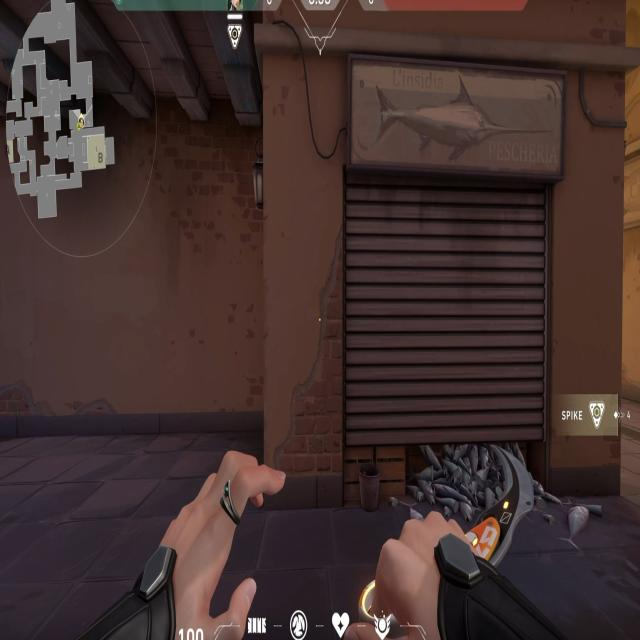B_Main_Corner: (258, 42, 576, 516)
